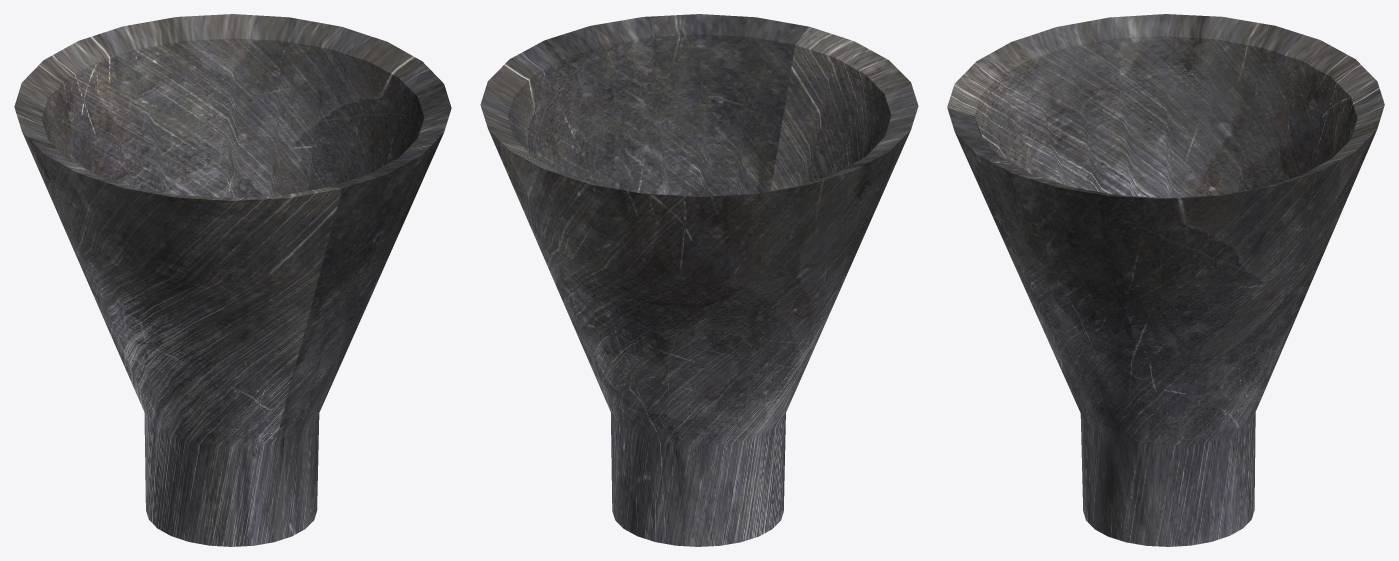
Rendered from loader.fbx.
3 renders of one model, left to right at view 1: azimuth 30°, elevation 25°; view 2: azimuth 150°, elevation 25°; view 3: azimuth 270°, elevation 25°, orthographic.
Visible parts, largest first — view 1: funnel; view 2: funnel; view 3: funnel.
Part boxes in pixels (x1,y1,x2,y2): funnel: (14,14,451,546); funnel: (480,14,918,546); funnel: (947,14,1384,546).
Size of the model in its own units: 90.02 by 92.14 by 90.01.
